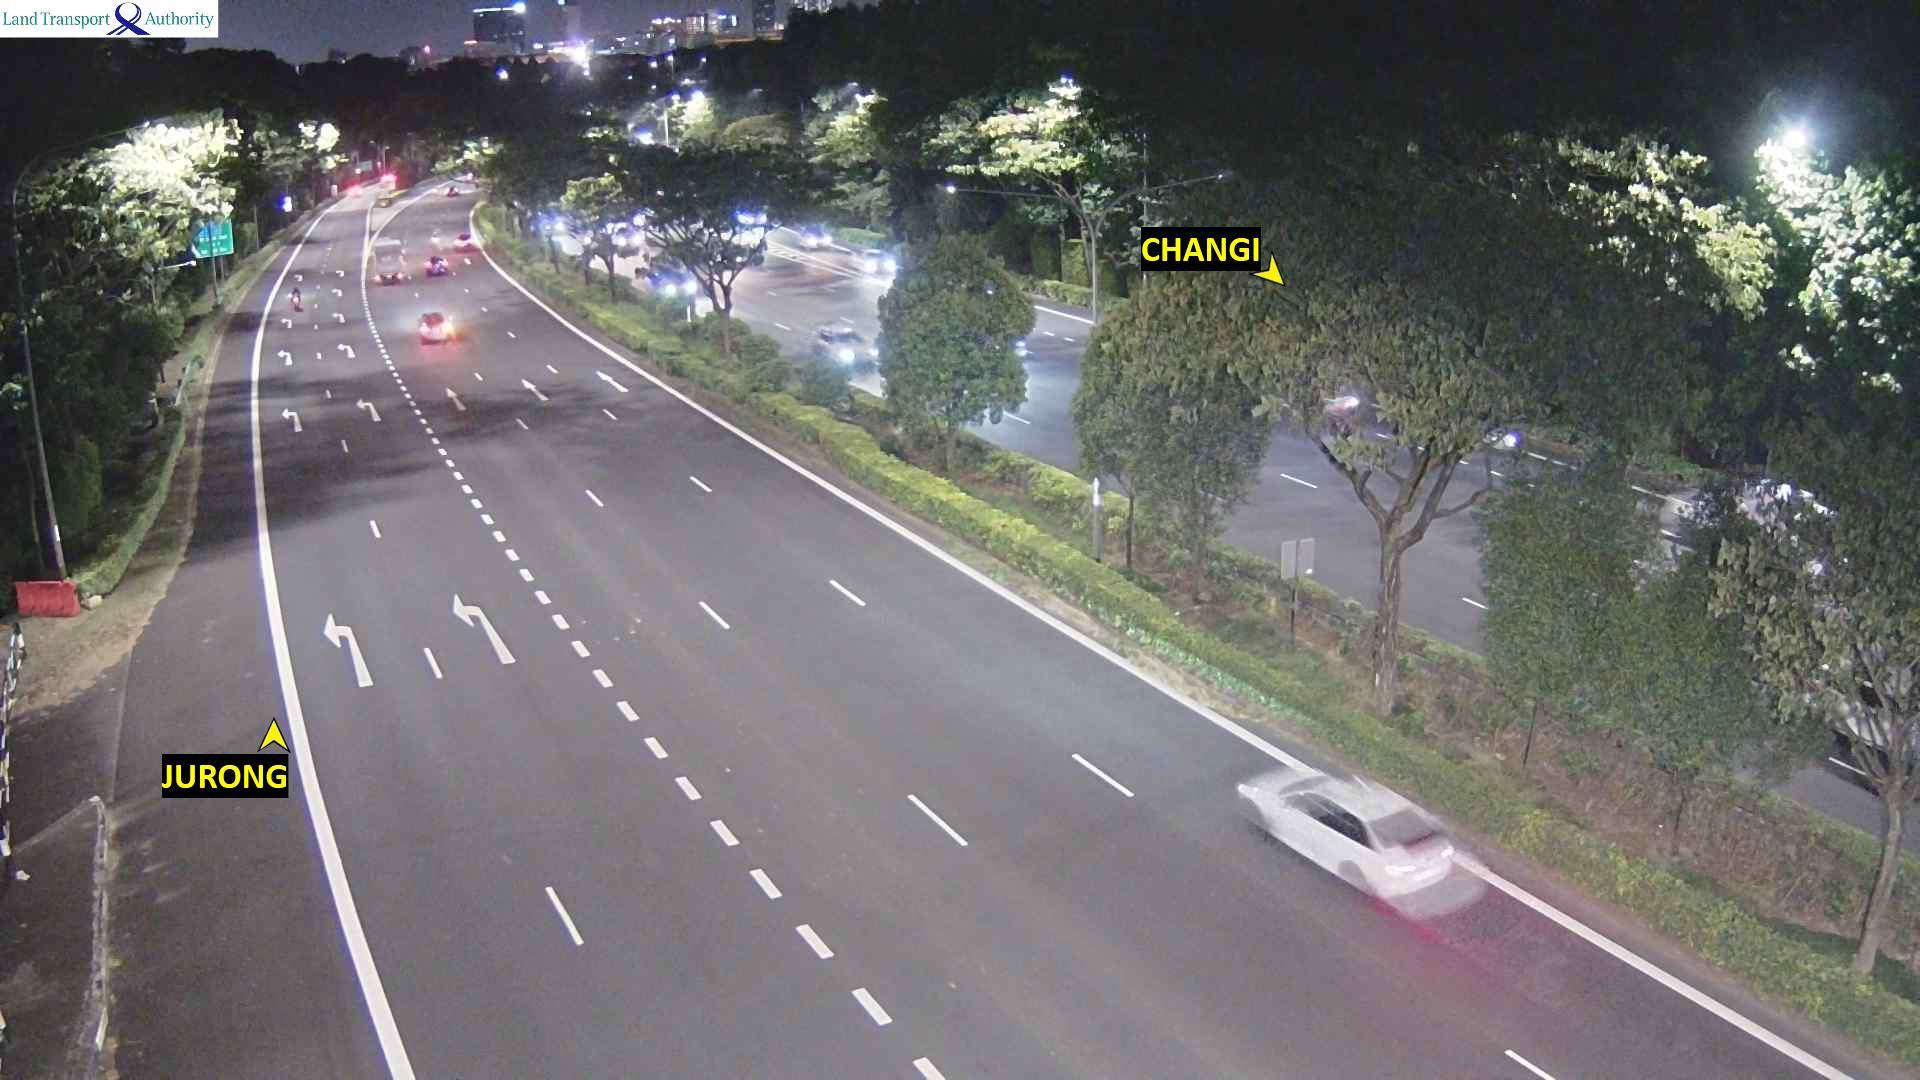incoming: (825, 329, 878, 368), (858, 247, 898, 276), (799, 224, 836, 249)
